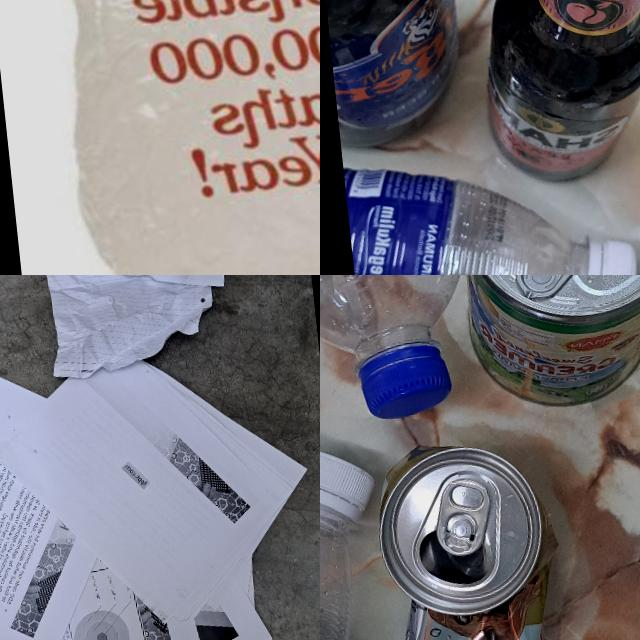aba de lata: (430, 476, 496, 559), (510, 275, 604, 302)
garrafa de vidro: (458, 0, 640, 193), (320, 0, 472, 151)
garrafa plástica: (343, 142, 600, 275), (320, 275, 481, 383), (320, 491, 373, 640)
lata: (372, 430, 573, 640), (446, 275, 640, 416)
papel: (0, 337, 320, 640), (35, 275, 251, 383)
sacola plástica: (0, 0, 320, 275)
tampa plástica: (354, 344, 456, 422), (320, 438, 379, 523), (584, 231, 640, 275)
